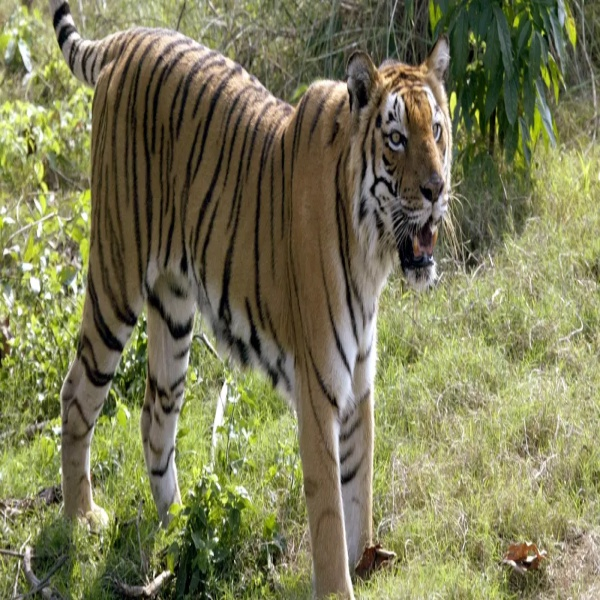Tiger: (48, 3, 457, 595)
